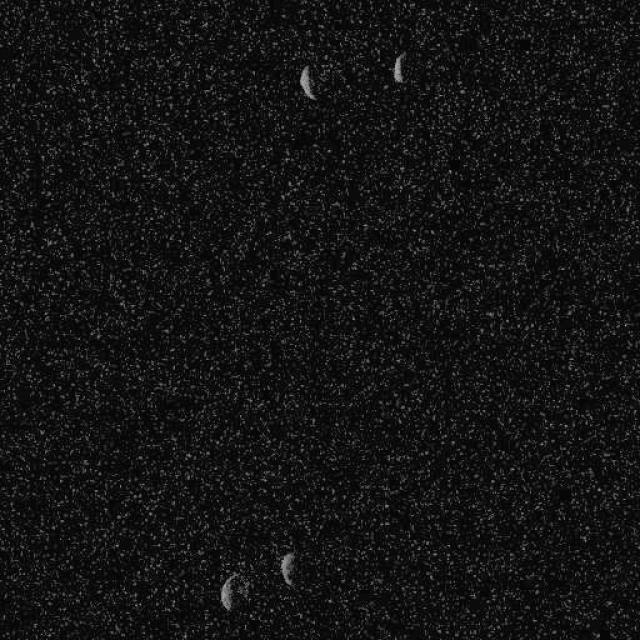D2: (219, 570, 250, 610), (299, 62, 316, 100), (279, 550, 295, 586), (391, 50, 405, 84)
